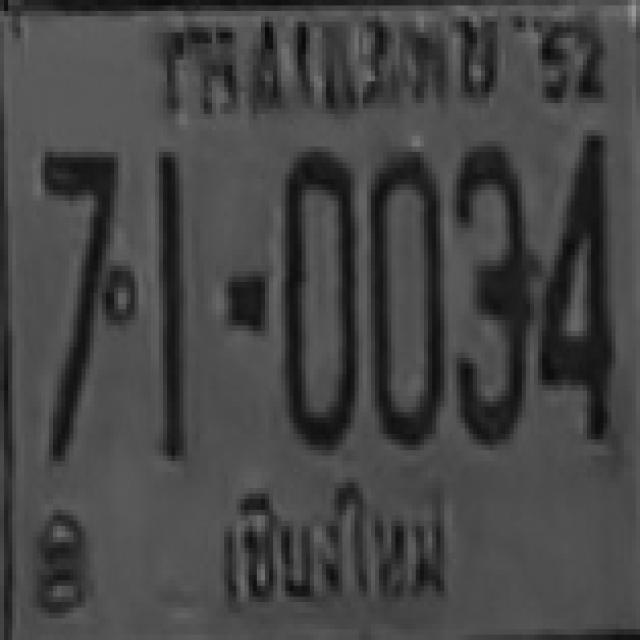0: (281, 146, 355, 445), (367, 149, 440, 442)
3: (452, 141, 530, 439)
4: (534, 130, 611, 434)
7: (41, 146, 118, 342)
ChiangMai: (203, 470, 455, 614)
